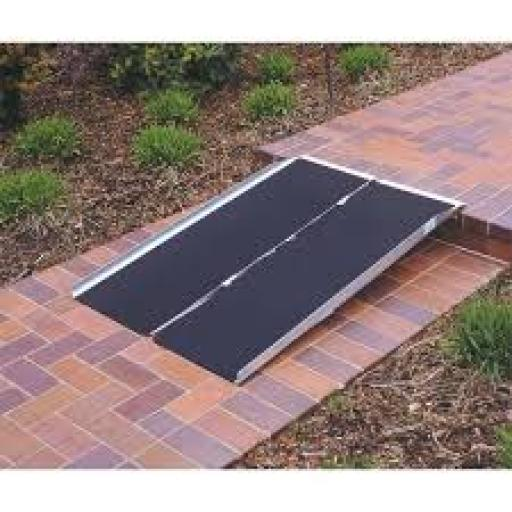ramp: (72, 154, 463, 386)
